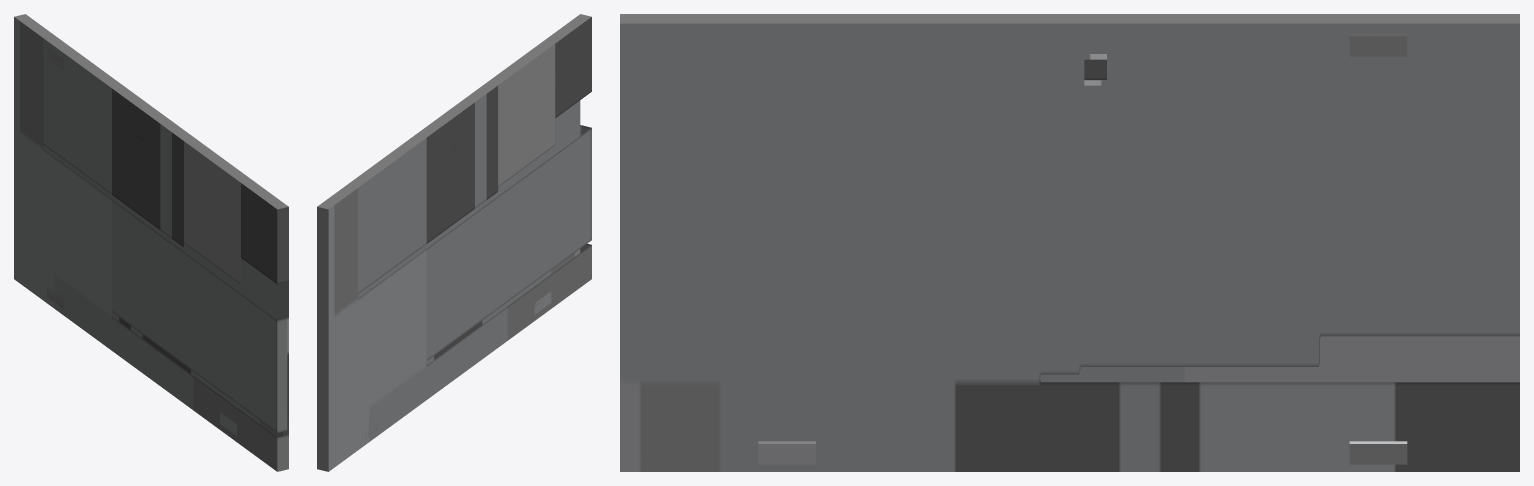
3 views of the same model, side by side, from view 1: azimuth 30°, elevation 25°; view 2: azimuth 150°, elevation 25°; view 3: azimuth 270°, elevation 25° (orthographic). The views are drawn at different scales.
Size of the model in its own units: 0.055 by 0.77 by 1.4.
